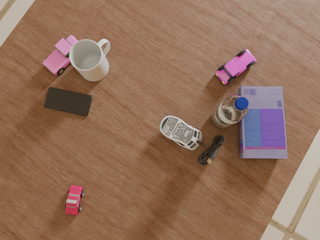book: (238, 86, 287, 159)
bottle: (211, 95, 249, 128)
cup: (69, 39, 110, 81)
mouse: (160, 116, 202, 150)
phone: (44, 87, 92, 116)
toy_car: (216, 49, 256, 85), (43, 35, 78, 75), (65, 185, 84, 215)
